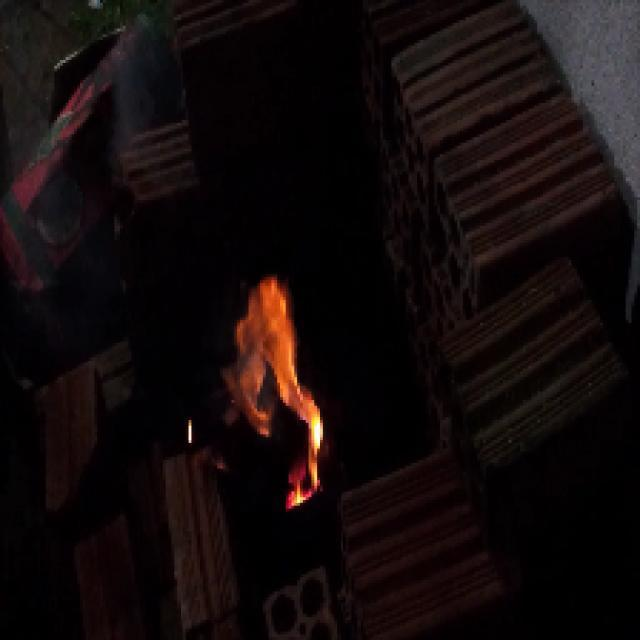Fire: (203, 268, 325, 498)
